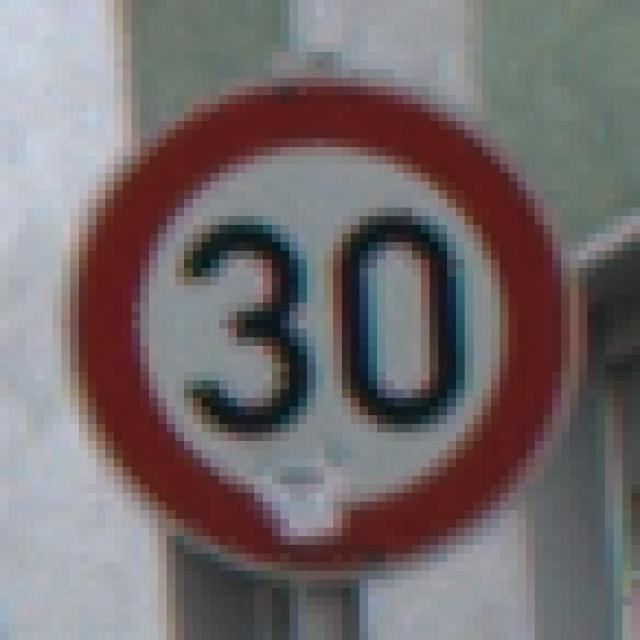Speed Limit -30-: (48, 56, 583, 584)
